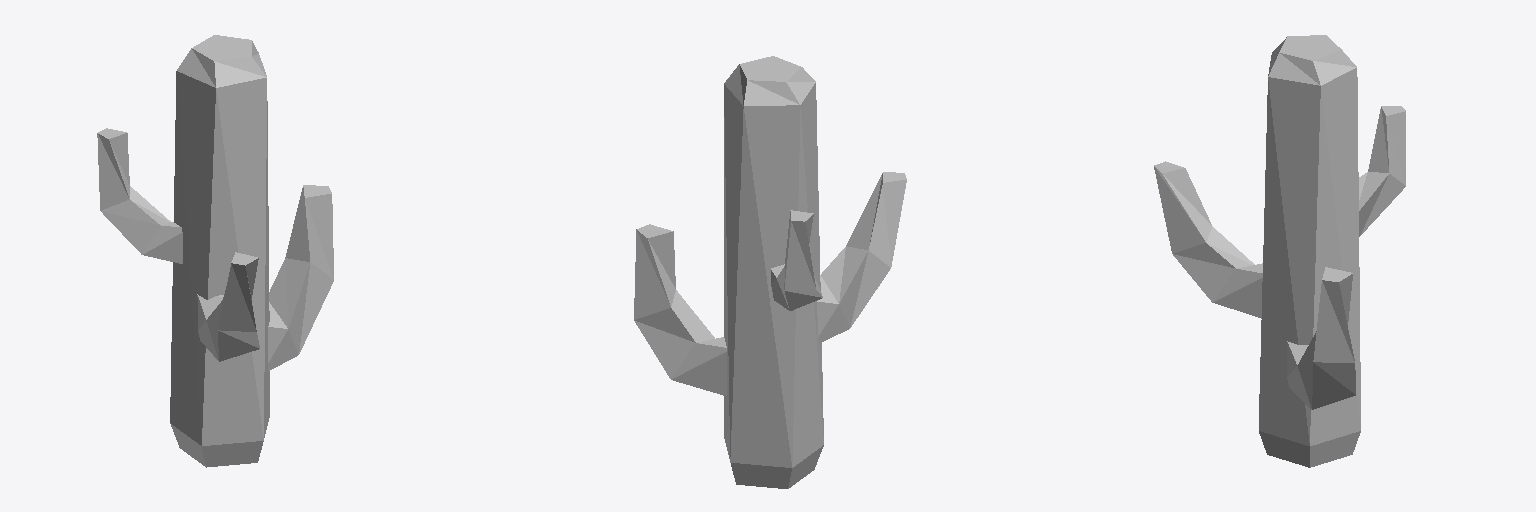
The model's file is Level0Cactus.obj.
The picture shows the model from 3 angles: view 1: azimuth 30°, elevation 25°; view 2: azimuth 150°, elevation 25°; view 3: azimuth 270°, elevation 25°; orthographic projection.
Parts seen in each view (by area): view 1: Cactus; view 2: Cactus; view 3: Cactus.
Boxes of the visible parts, x1,y1,x2,y2 form: Cactus: [97, 35, 333, 467]; Cactus: [634, 56, 906, 488]; Cactus: [1154, 35, 1405, 467].
Size of the model in its own units: 262 by 493 by 281.